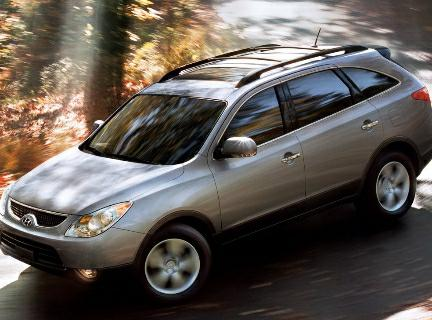car: (1, 14, 432, 298)
